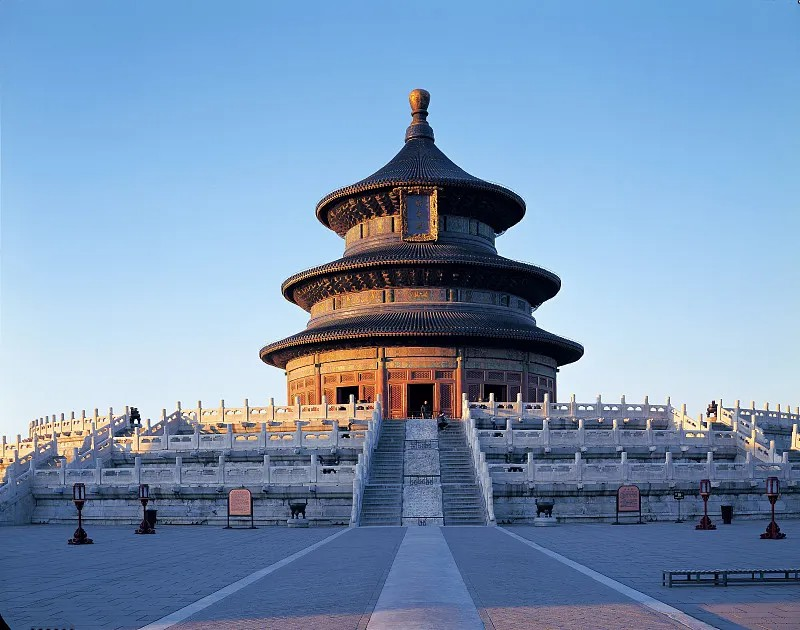Heaven: (258, 87, 584, 418)
